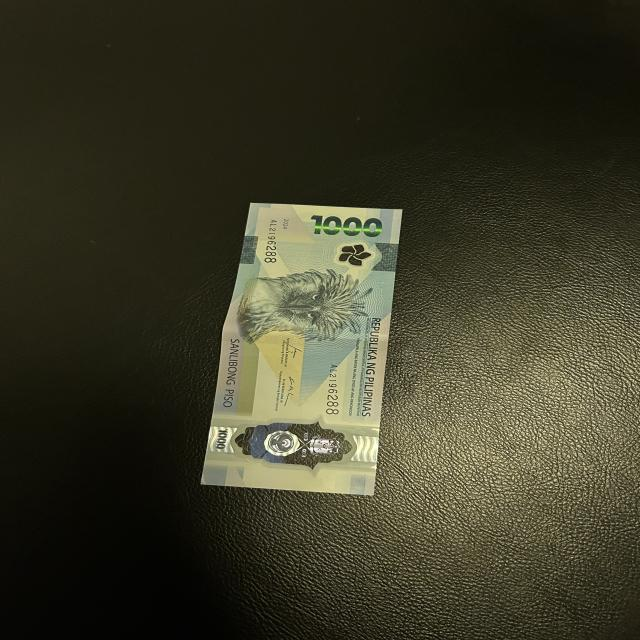clear_window: (229, 419, 357, 469)
eagle: (240, 271, 362, 344)
sampaguita: (335, 242, 371, 265)
